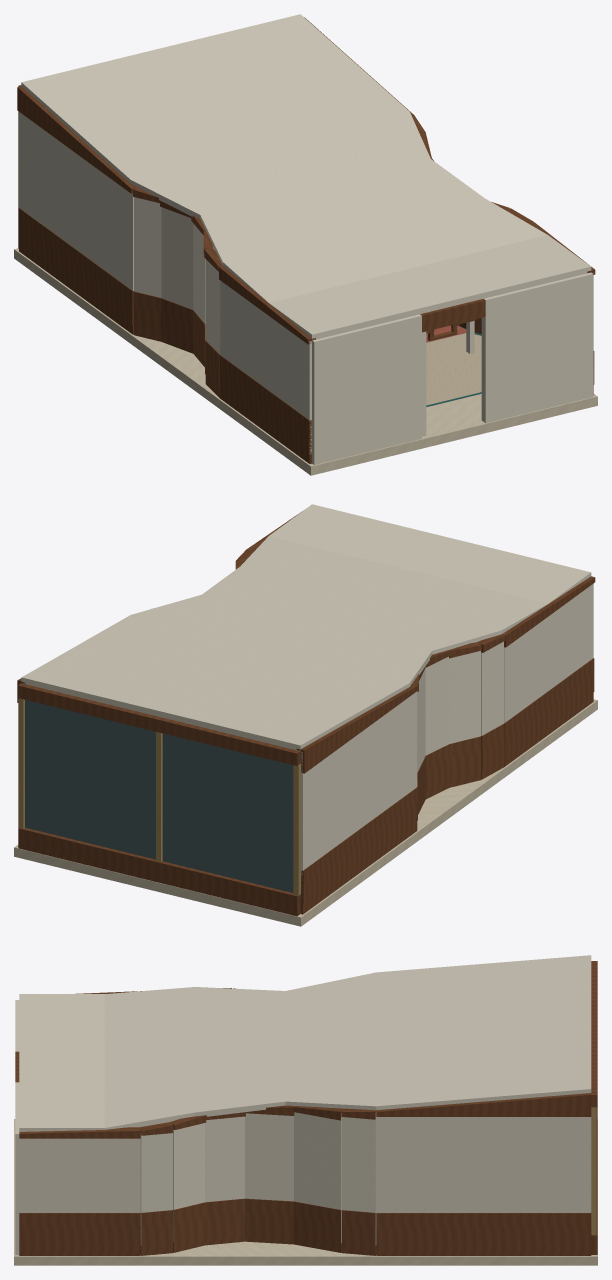
File: NIGHT_GARDEN_ROOM_08_r001.glb
The picture shows the model from 3 angles, top to bottom: view 1: azimuth 30°, elevation 25°; view 2: azimuth 150°, elevation 25°; view 3: azimuth 270°, elevation 25°; orthographic projection.
Parts seen in each view (by area): view 1: NIGHT_GARDENRoomBatch_2, NIGHT_GARDENRoomBatch_1, NIGHT_GARDENRoomBatch_0, NIGHT_GARDENRoomBatch_3; view 2: NIGHT_GARDENRoomBatch_2, NIGHT_GARDENRoomBatch_6, NIGHT_GARDENRoomBatch_1, NIGHT_GARDENRoomBatch_0, NIGHT_GARDENRoomBatch_5; view 3: NIGHT_GARDENRoomBatch_2, NIGHT_GARDENRoomBatch_1, NIGHT_GARDENRoomBatch_0, NIGHT_GARDENRoomBatch_5.
Boxes of the visible parts, <box> form: NIGHT_GARDENRoomBatch_2: <box>19,14,593,464</box>; NIGHT_GARDENRoomBatch_1: <box>17,17,595,463</box>; NIGHT_GARDENRoomBatch_0: <box>14,248,597,475</box>; NIGHT_GARDENRoomBatch_3: <box>213,248,481,405</box>; NIGHT_GARDENRoomBatch_2: <box>21,504,593,885</box>; NIGHT_GARDENRoomBatch_6: <box>25,700,293,892</box>; NIGHT_GARDENRoomBatch_1: <box>17,511,595,916</box>; NIGHT_GARDENRoomBatch_0: <box>14,699,597,926</box>; NIGHT_GARDENRoomBatch_5: <box>18,698,300,895</box>; NIGHT_GARDENRoomBatch_2: <box>15,955,591,1254</box>; NIGHT_GARDENRoomBatch_1: <box>15,961,597,1255</box>; NIGHT_GARDENRoomBatch_0: <box>14,1119,597,1265</box>; NIGHT_GARDENRoomBatch_5: <box>591,1107,596,1235</box>.
Bounding box in the file's own units: 7.2 × 4.26 × 12.9.
Materials: 64 (57 with a texture image).
